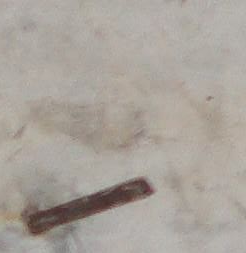Exposed reinforcement: (26, 177, 155, 235)
